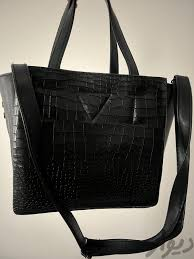Bag: (1, 52, 173, 214)
